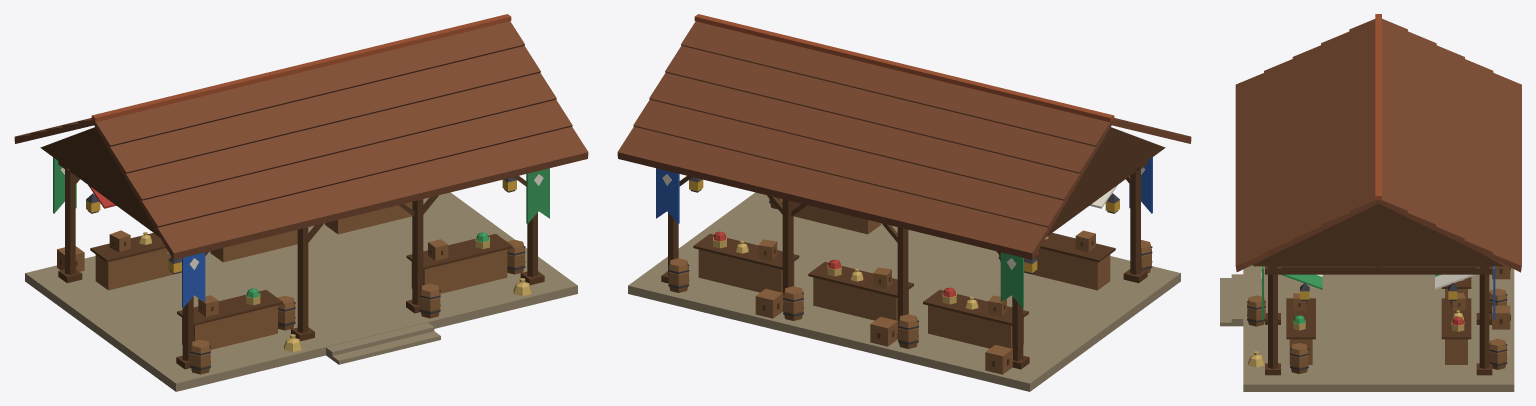
The model's file is Market.fbx.
3 views of the same model, side by side, from view 1: azimuth 30°, elevation 25°; view 2: azimuth 150°, elevation 25°; view 3: azimuth 270°, elevation 25° (orthographic). The views are drawn at different scales.
Parts seen in each view (by area): view 1: Market; view 2: Market; view 3: Market.
Boxes of the visible parts, <box> form: Market: <box>14,14,588,391</box>; Market: <box>617,14,1191,391</box>; Market: <box>1220,14,1521,391</box>.
Bounding box in the file's own units: 13.04 × 6.64 × 9.13.
